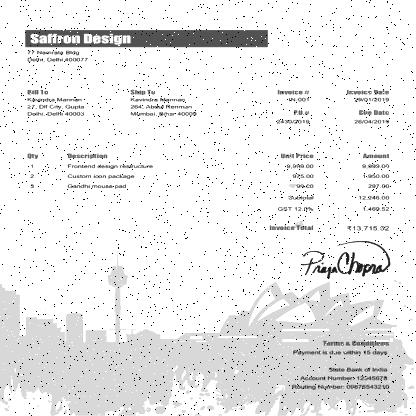Paragraph: (290, 338, 392, 392), (130, 88, 198, 117), (25, 88, 86, 117), (28, 32, 134, 46), (264, 224, 392, 232), (26, 49, 90, 63), (345, 88, 391, 102), (353, 108, 391, 124), (275, 108, 311, 124), (276, 88, 310, 102)
Table: (23, 149, 392, 213)
